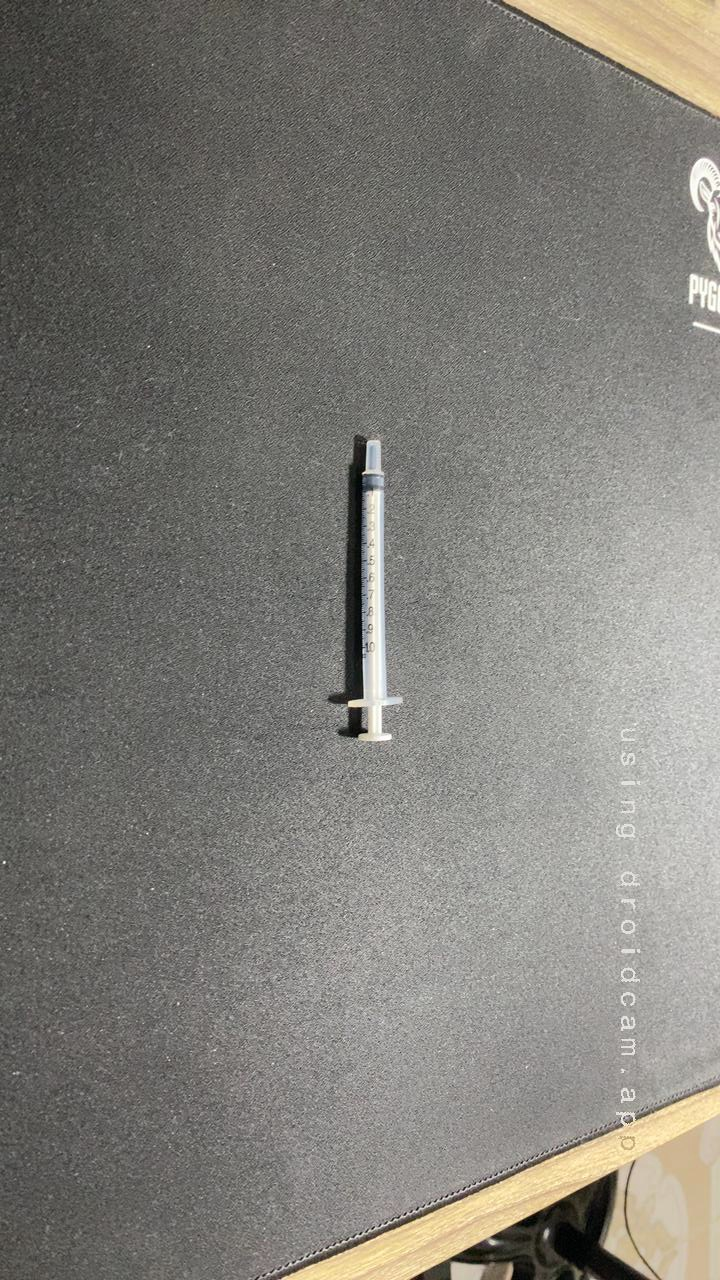syringe: (306, 429, 427, 753)
